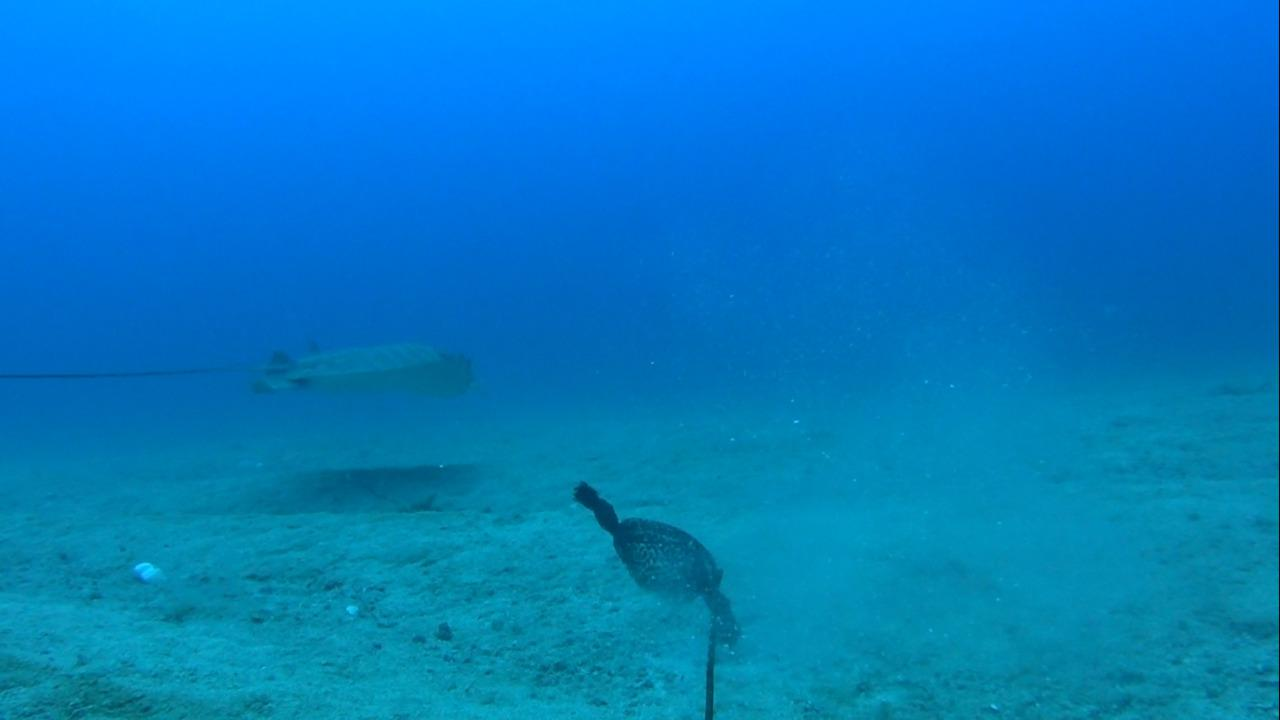myliobatis: (3, 321, 487, 419)
